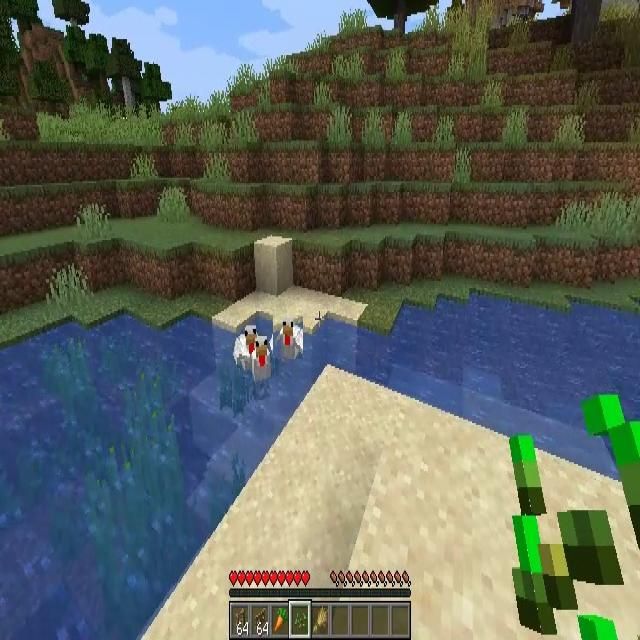duck: (274, 315, 304, 359), (251, 337, 275, 377), (234, 325, 257, 362)
